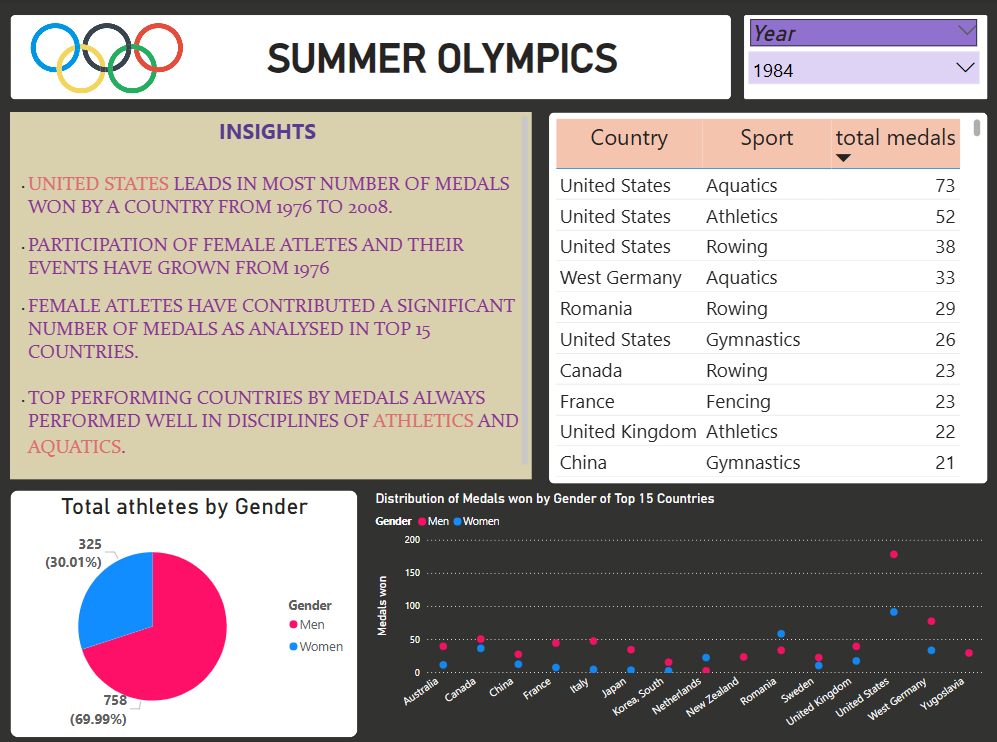

Layout of this report page (visuals, bound fields, positions):
{"tool":"powerbi","page":{"name":"Insights","canvas":[1280,950],"ordinal":1},"visuals":[{"type":"textbox","box":[19,20.9,912.7,108.2],"z":0},{"type":"image","box":[39.8,20.9,203,110.1],"z":1000},{"type":"tableEx","fields":{"Values":["Summer-Olympic-medals-1976-to-2008.Country","Summer-Olympic-medals-1976-to-2008.Sport","Summer-Olympic-medals-1976-to-2008.total medals"]},"box":[700.2,144.2,556,470.6],"z":2000},{"type":"pieChart","title":" Total athletes by Gender","fields":{"Y":["CountNonNull(Summer-Olympic-medals-1976-to-2008.total athletes)"],"Category":["Summer-Olympic-medals-1976-to-2008.Gender"]},"box":[19,622.4,440.2,313.1],"z":3000},{"type":"slicer","fields":{"Values":["dim city.Year"]},"box":[946.9,20.9,309.3,108.2],"z":4000},{"type":"scatterChart","title":"Distribution of Medals won by Gender of Top 15 Countries","fields":{"X":["Summer-Olympic-medals-1976-to-2008.Country"],"Series":["Summer-Olympic-medals-1976-to-2008.Gender"],"Y":["dim medal.Medals won"]},"box":[476.3,622.4,779.9,313.1],"z":5000},{"type":"textbox","box":[19,144.2,660.3,464.9],"z":6001}]}

Visuals, with their boxes in screenshot pixels (x1, y1, x2, y2), scaled from the page's 1280x950 canvas onto the 997x742 screenshot:
textbox: 15, 16, 726, 101
image: 31, 16, 189, 102
tableEx - Summer-Olympic-medals-1976-to-2008.Country x Summer-Olympic-medals-1976-to-2008.Sport: 545, 113, 978, 480
" Total athletes by Gender" pieChart: 15, 486, 358, 731
slicer - dim city.Year: 738, 16, 978, 101
"Distribution of Medals won by Gender of Top 15 Countries" scatterChart: 371, 486, 978, 731
textbox: 15, 113, 529, 476
